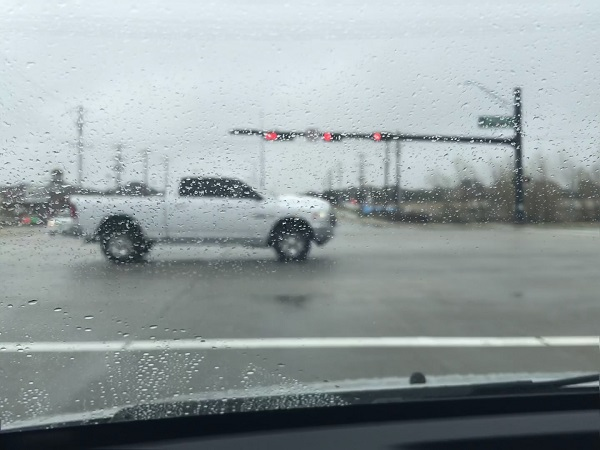truck: (49, 169, 335, 260)
